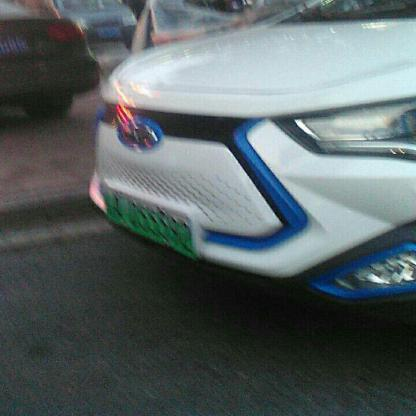lp: (102, 186, 194, 259)
